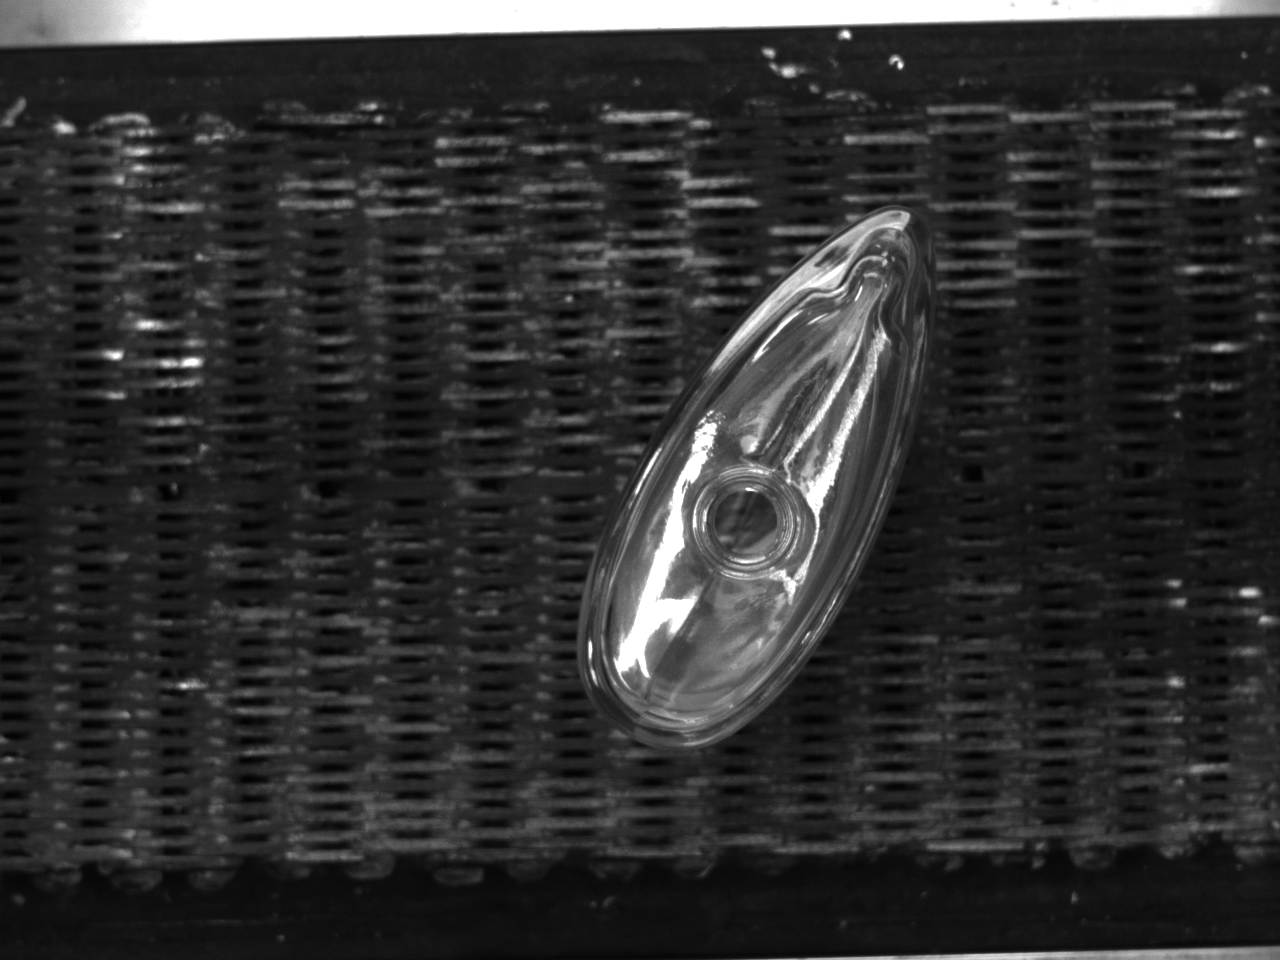bottleneck: (694, 469, 799, 575)
